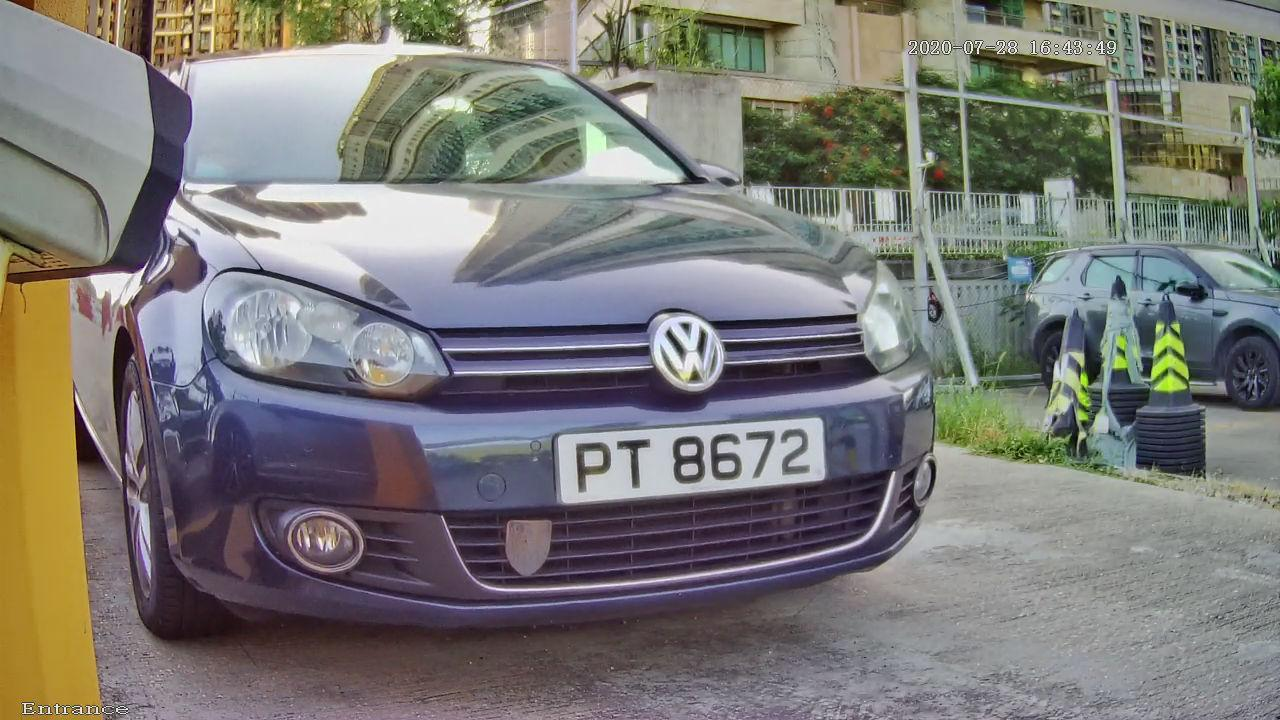privatecar: (6, 10, 1126, 679)
